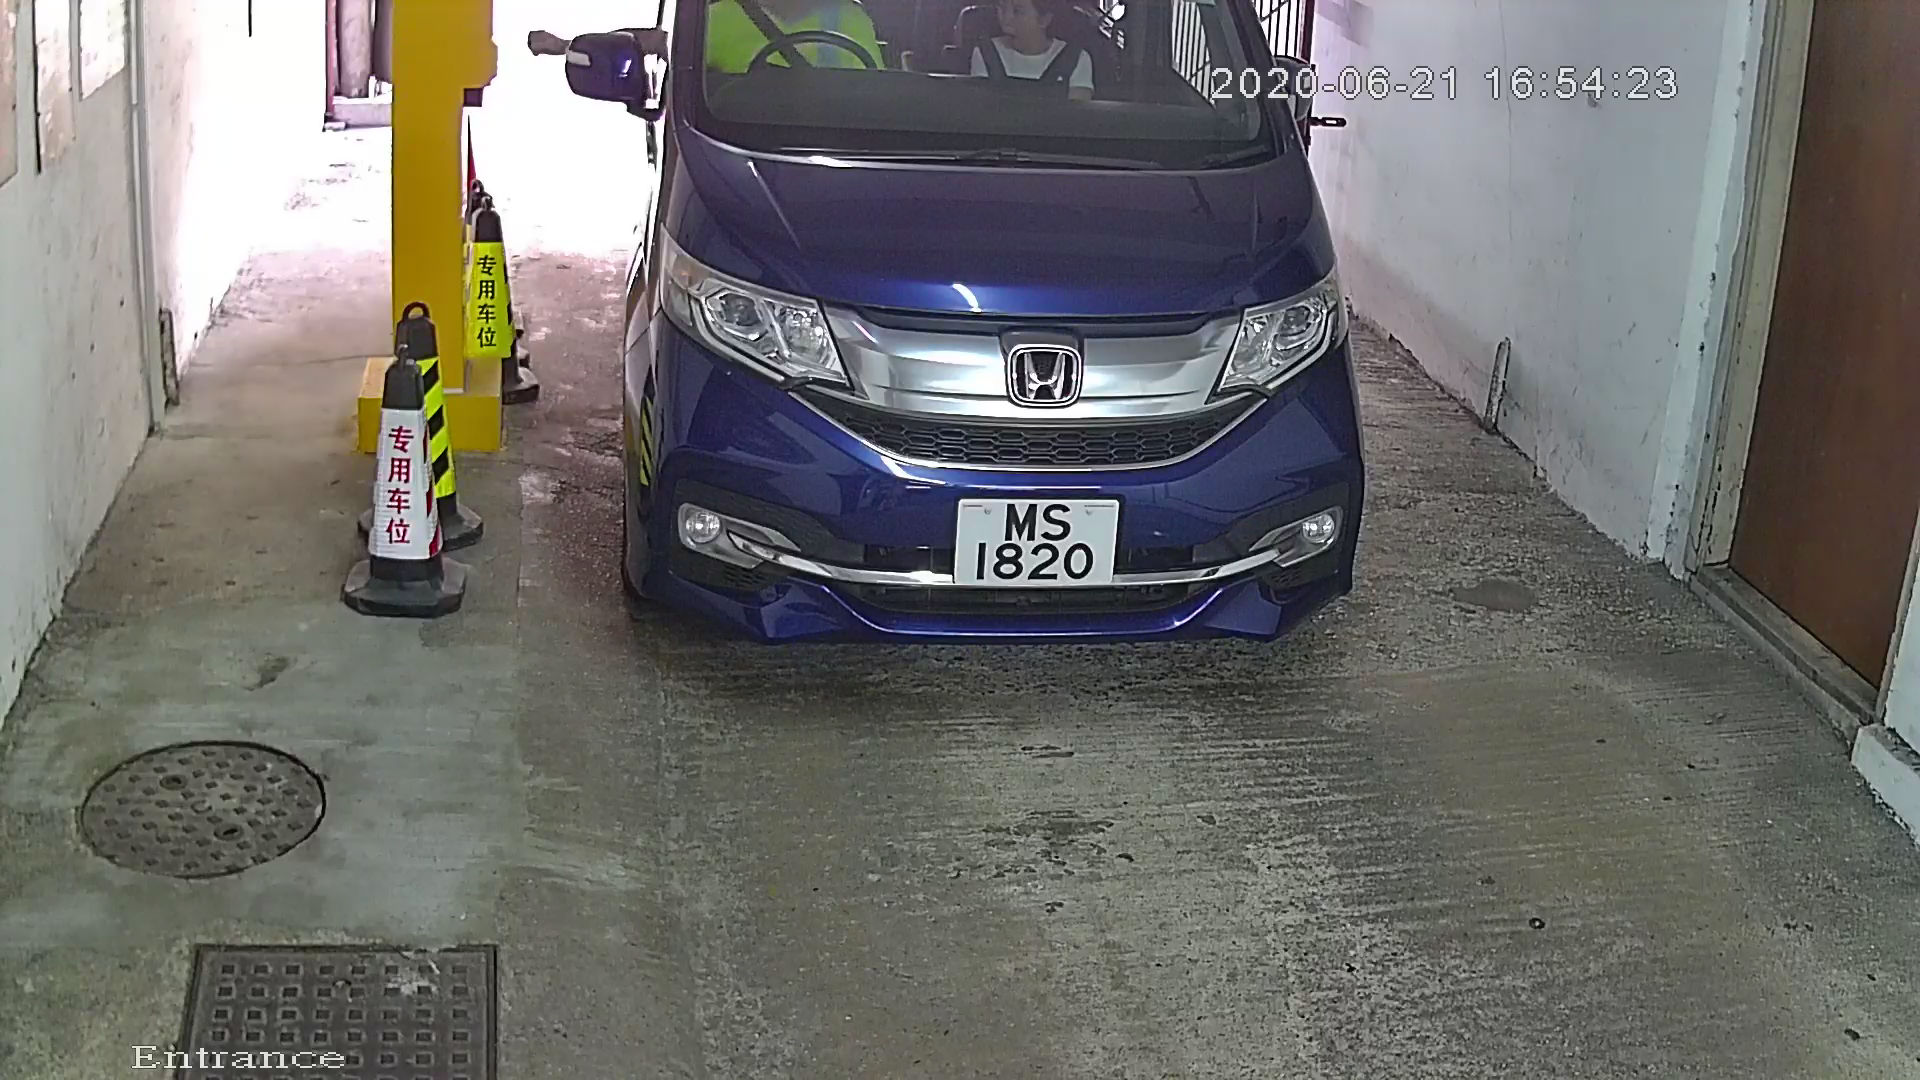privatecar: (541, 1, 1410, 694)
